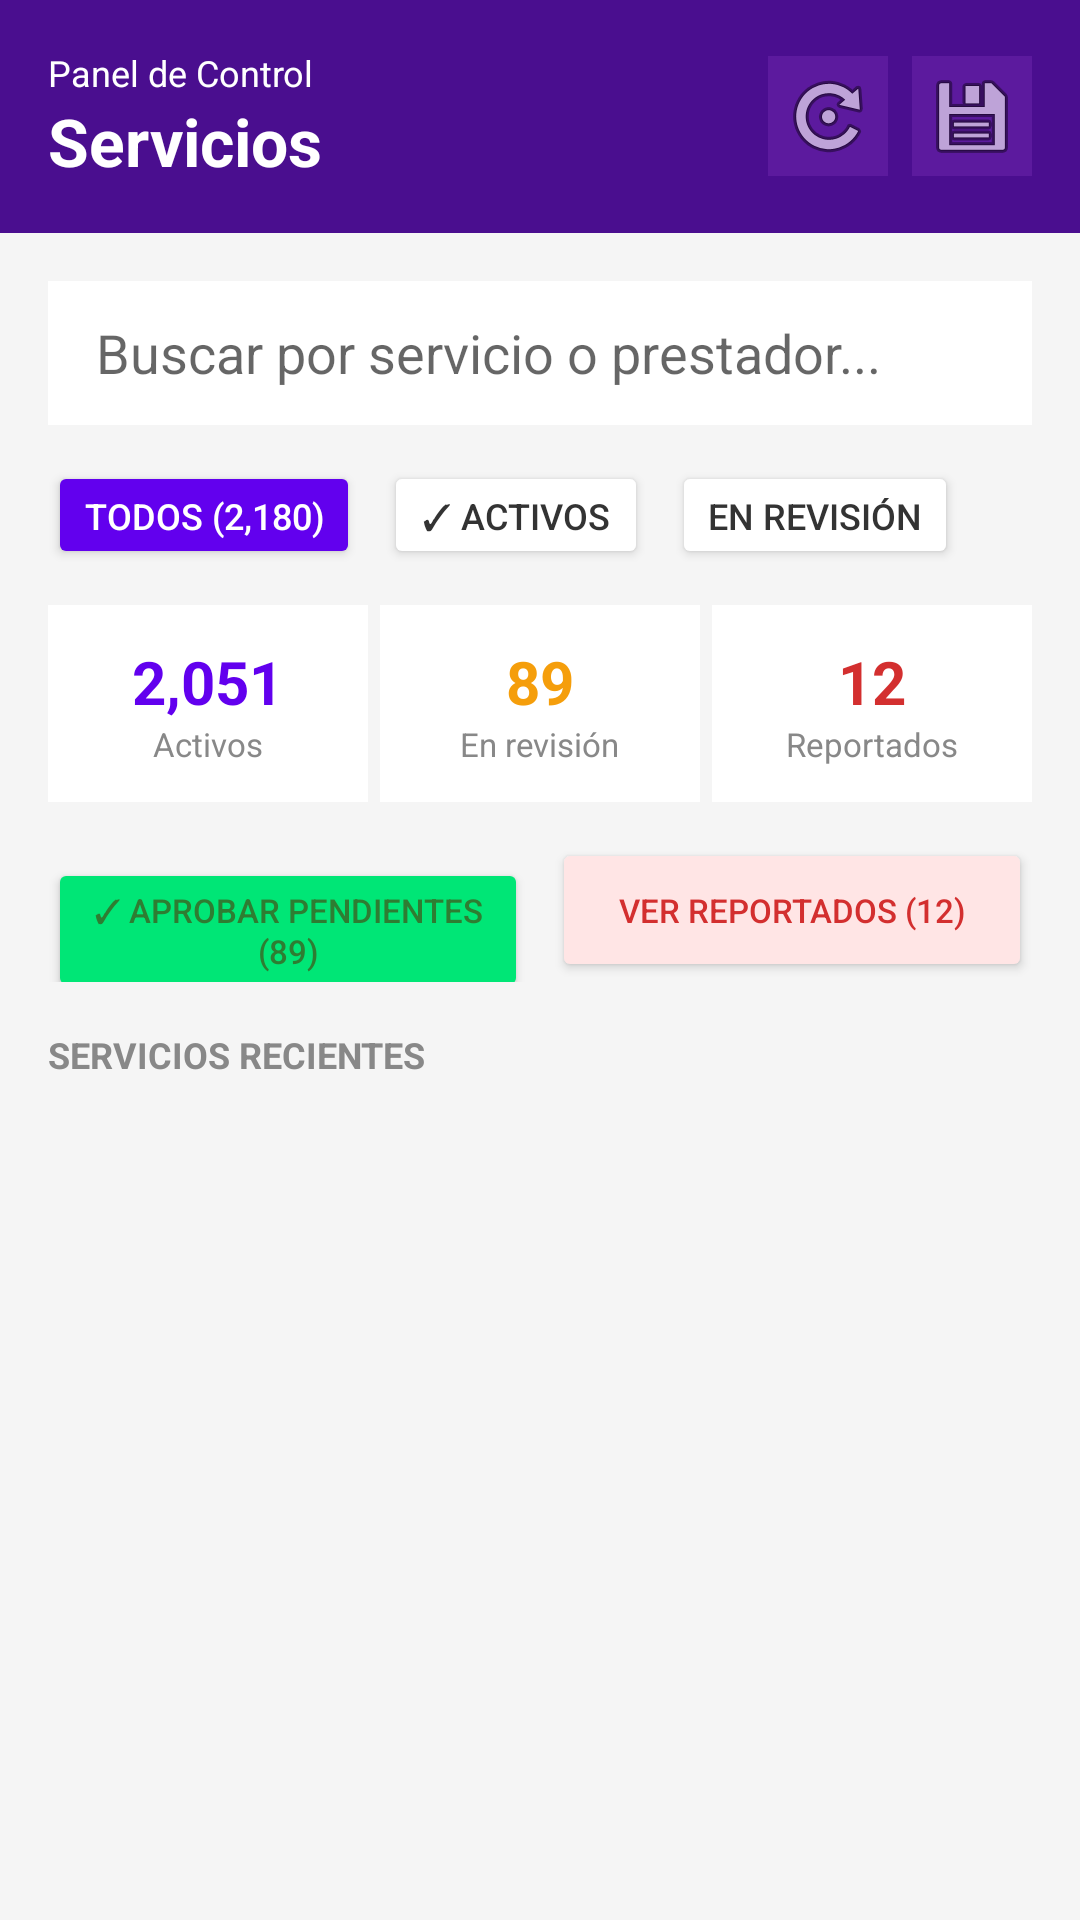

Where to tap for icons on this 1080px x 1920px app screen, as [x,y]:
rotate: [828,116]
save: [972,116]
